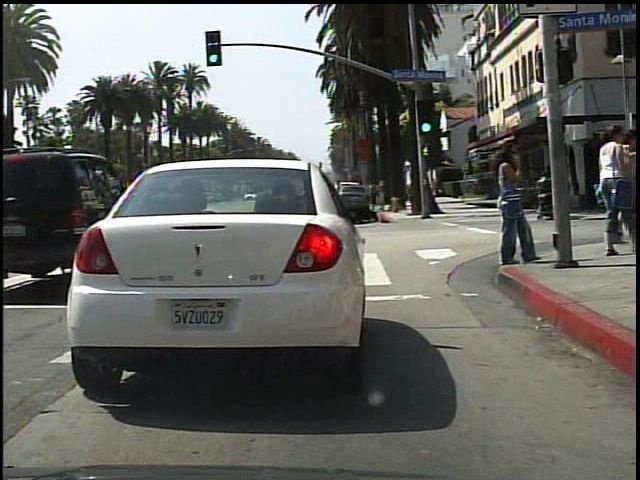person: (479, 139, 538, 269), (589, 121, 640, 262)
